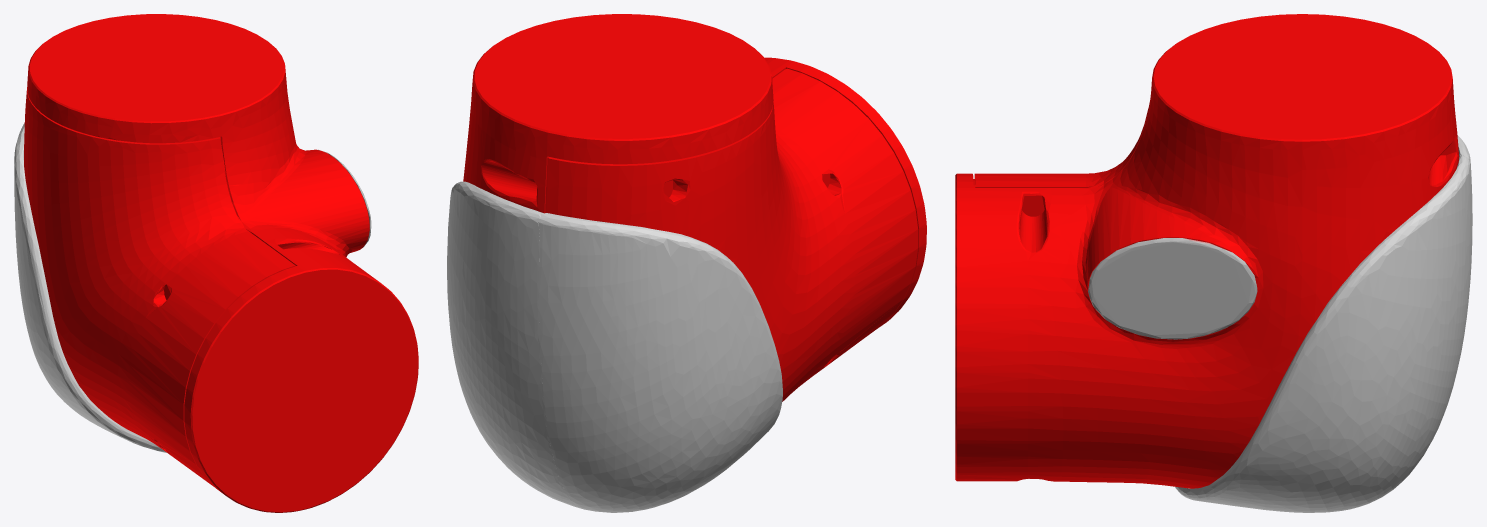
Rendered from SawyerLink6.dae.
The picture shows the model from 3 angles, left to right: view 1: azimuth 30°, elevation 25°; view 2: azimuth 150°, elevation 25°; view 3: azimuth 270°, elevation 25°; orthographic projection. The views are drawn at different scales.
Visible parts, largest first — view 1: SawyerLink6; view 2: SawyerLink6; view 3: SawyerLink6.
Part boxes in pixels (box(x1,y1,x2,y2)): SawyerLink6: box(14, 14, 418, 512); SawyerLink6: box(447, 14, 926, 512); SawyerLink6: box(955, 14, 1472, 512).
Bounding box in the file's own units: 0.0953 × 0.1428 × 0.1276.
